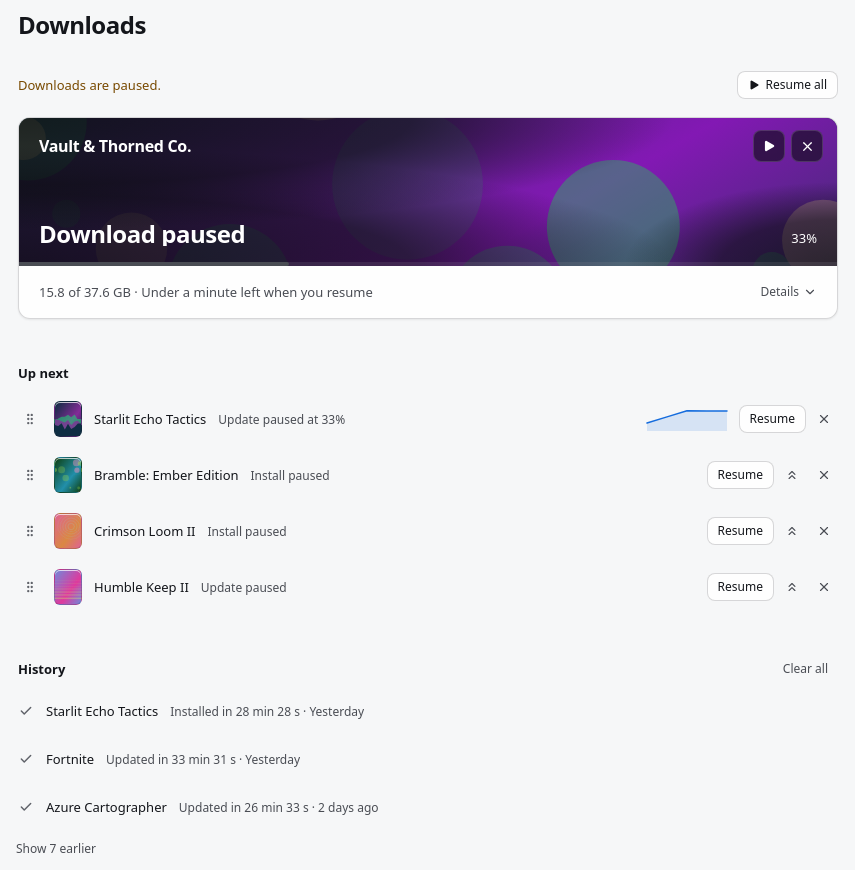
Test case: Downloads › the header is the title only: no mode control, no limit button, no Pause all; a paused queue gets one quiet notice with Resume all
Expected: the progress indicator named "Downloading " is shown, [19,262,837,266]
Expected: the heading "Up next" is shown, [18,363,69,383]
Click the button "Resume all" at (787, 85), box [737,71,838,99]
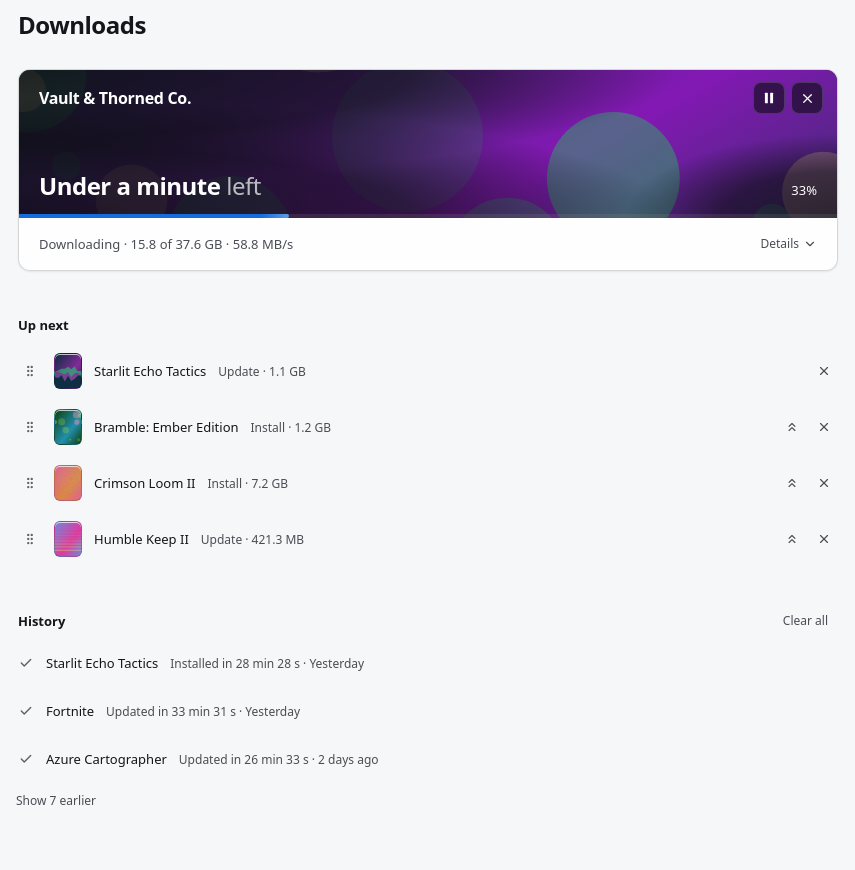
Now the text "Downloads are paused." is gone
